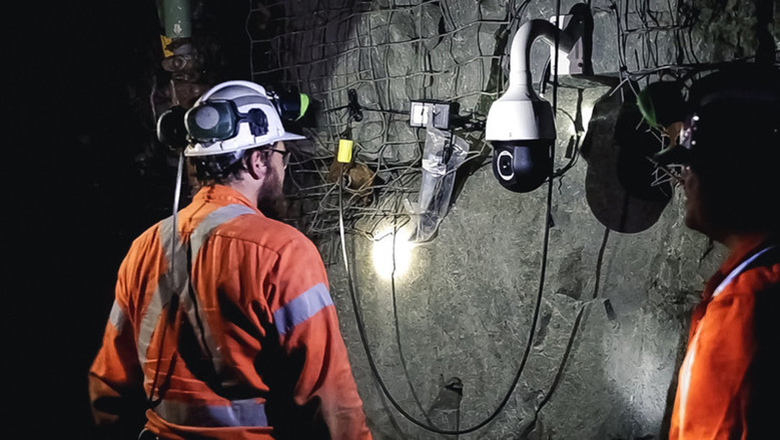epi: (88, 75, 379, 440), (610, 57, 780, 440)
